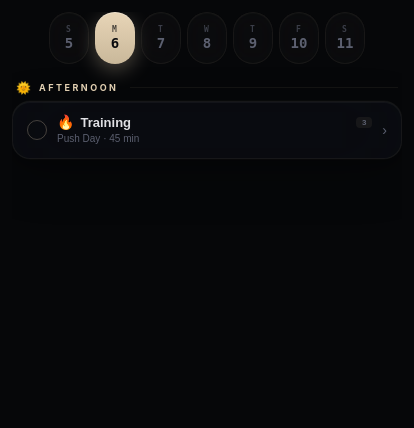
Scenario: RoutineView — exercise sub-tasks as ExerciseDetail (I5) › renders each exercise sub-task as an expandable ExerciseDetail form-guide row
Click the button "🔥 Training 3 Push Day · 45 min ›" at (106, 122), box [13, 102, 401, 158]
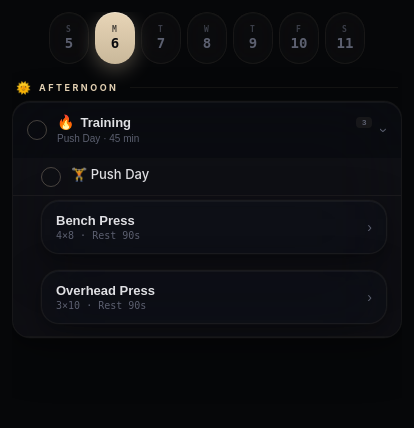
Click the button "Bench Press 4×8 · Rest 90s ›" at (95, 220), box [42, 201, 386, 253]
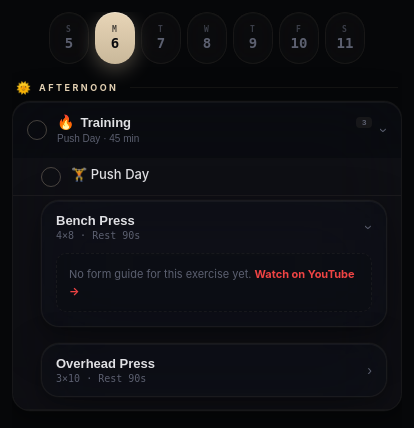
Now the text "Watch" is shown, box [69, 267, 354, 298]
